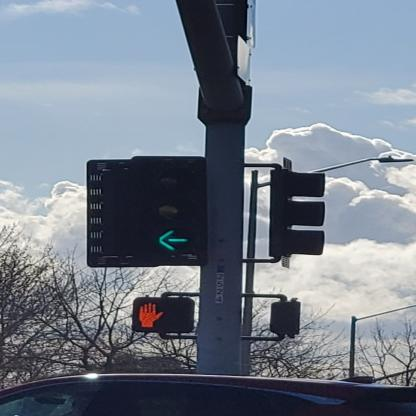left-green: (133, 157, 206, 266)
